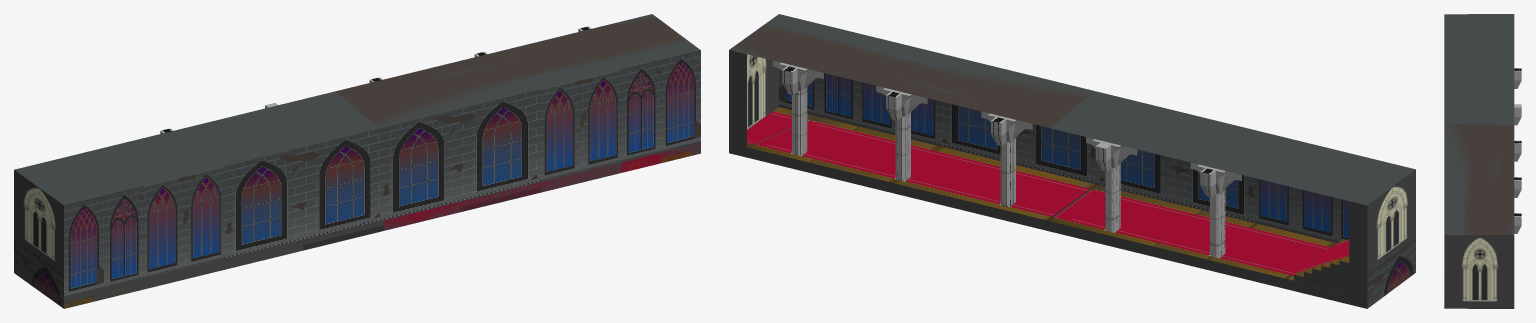
The model's file is igreja3AD.fbx.
3 views of the same model, side by side, from view 1: azimuth 30°, elevation 25°; view 2: azimuth 150°, elevation 25°; view 3: azimuth 270°, elevation 25° (orthographic). The views are drawn at different scales.
Visible parts, largest first — view 1: igreja; view 2: igreja, pilar.004, pilar, pilar.005, pilar.002, pilar.003; view 3: igreja, pilar.003, pilar.004, pilar, pilar.002, pilar.005.
Boxes of the visible parts, x1,y1,x2,y2 form: igreja: [14, 14, 700, 308]; igreja: [729, 14, 1415, 308]; pilar.004: [1086, 137, 1137, 232]; pilar: [772, 60, 823, 155]; pilar.005: [1190, 162, 1241, 257]; pilar.002: [876, 86, 927, 181]; pilar.003: [981, 111, 1032, 206]; igreja: [1444, 14, 1514, 308]; pilar.003: [1514, 140, 1521, 161]; pilar.004: [1514, 104, 1521, 125]; pilar: [1514, 213, 1521, 233]; pilar.002: [1514, 177, 1521, 197]; pilar.005: [1514, 68, 1521, 88].
Bounding box in the file's own units: 2437 × 377 × 360.
